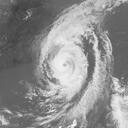cyclone: (35, 28, 88, 100)
